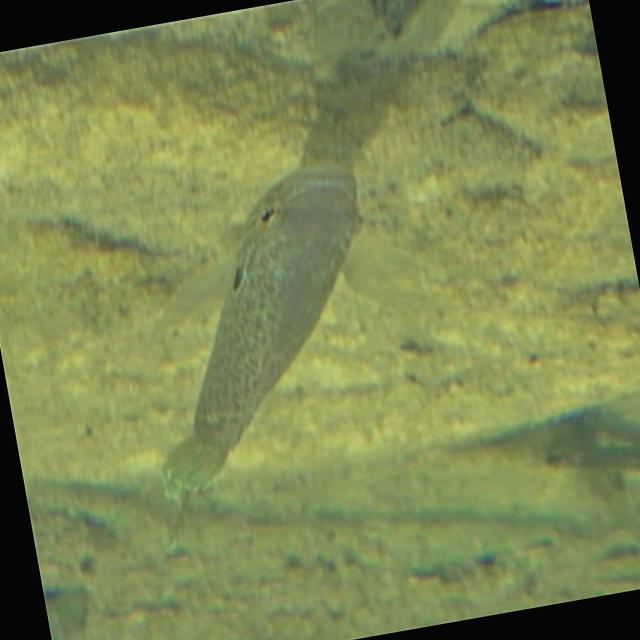Gunes Levregi: (110, 147, 408, 507)
